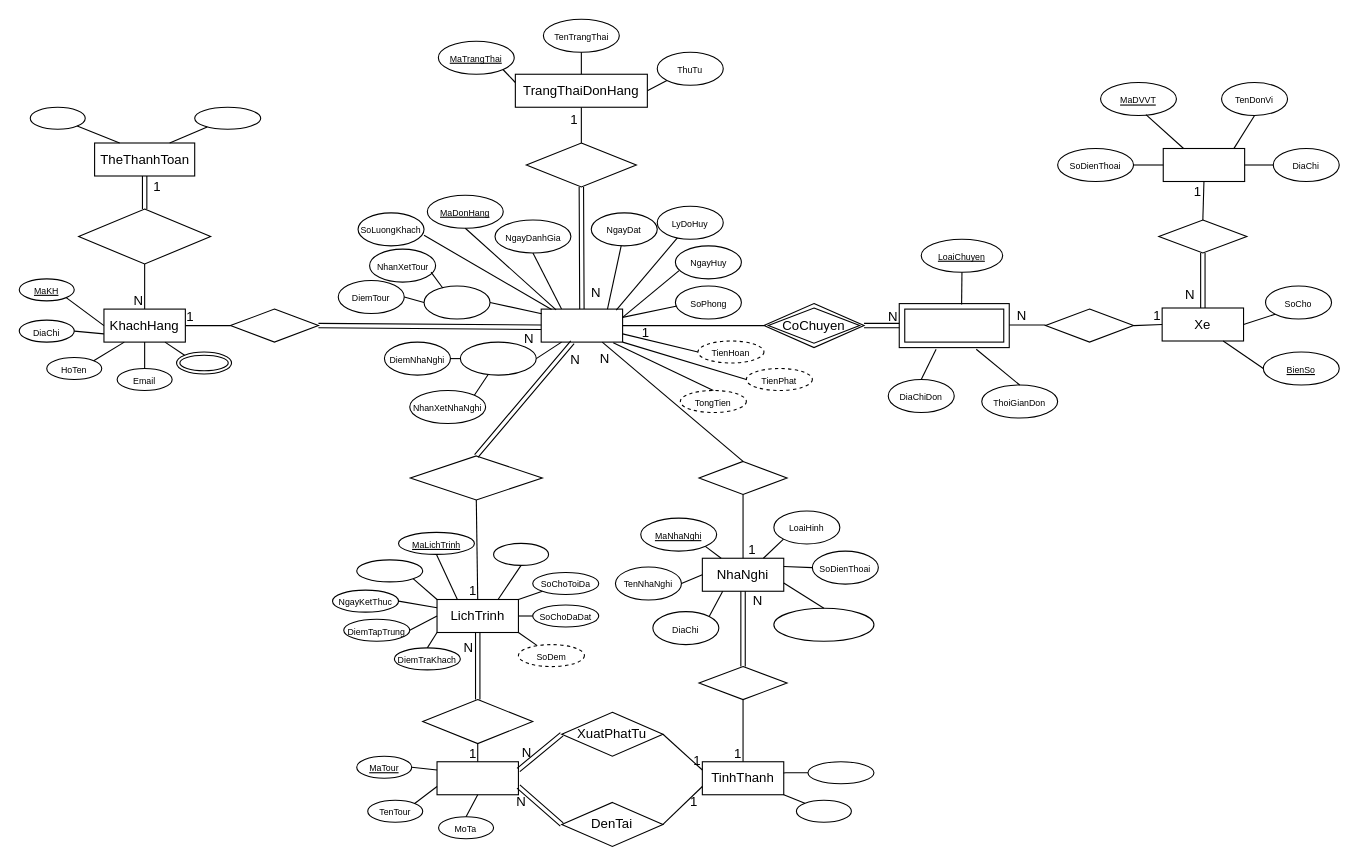
Some shapes in this 1359 by 866 pixel diagram are drawn without their labels. The centre of each missing label's shape, as x and y in pixels:
ChuyenTrungChuyen: pixel 953 325
CoLichTrinh: pixel 477 721
CoTrangThai: pixel 580 164
DanhGiaNhaNghi: pixel 497 358
DanhGiaTour: pixel 456 302
Dat: pixel 273 325
DonHang: pixel 581 325
DonViVanTai: pixel 1203 164
GiaCoBan: pixel 520 553
GiaPhongMoiDem: pixel 823 624
LoaiThe: pixel 227 117
LuuTru: pixel 742 477
MaTinh: pixel 840 772
NamTai: pixel 742 683
NgayXuatPhat: pixel 389 570
PhucVu: pixel 1089 325
SDT: pixel 203 362
SoHuu: pixel 1202 236
SoID: pixel 57 117
TenTinh: pixel 823 810
ThanhToanBang: pixel 144 236
ThuocLichTrinh: pixel 475 477
Tour: pixel 477 778
